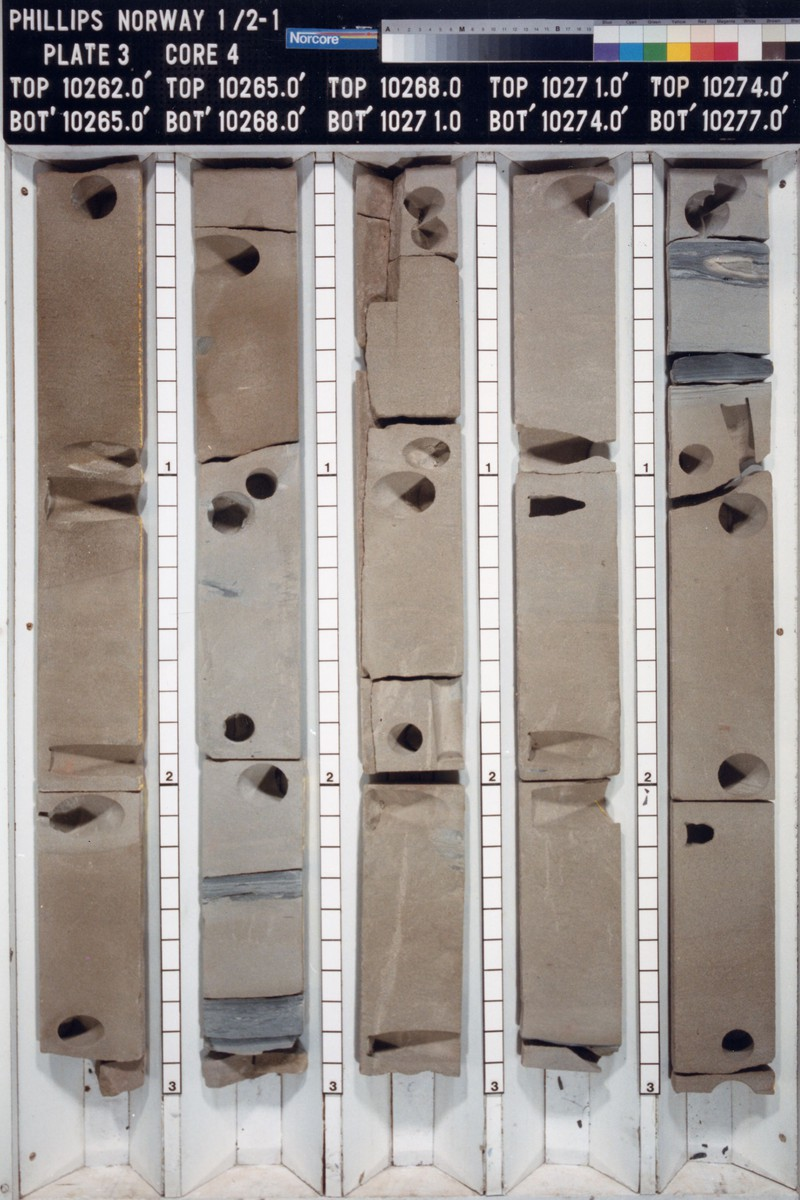core: (192, 163, 312, 1090), (35, 164, 154, 1095), (508, 168, 625, 1078), (351, 162, 467, 1078), (665, 164, 778, 1098)
